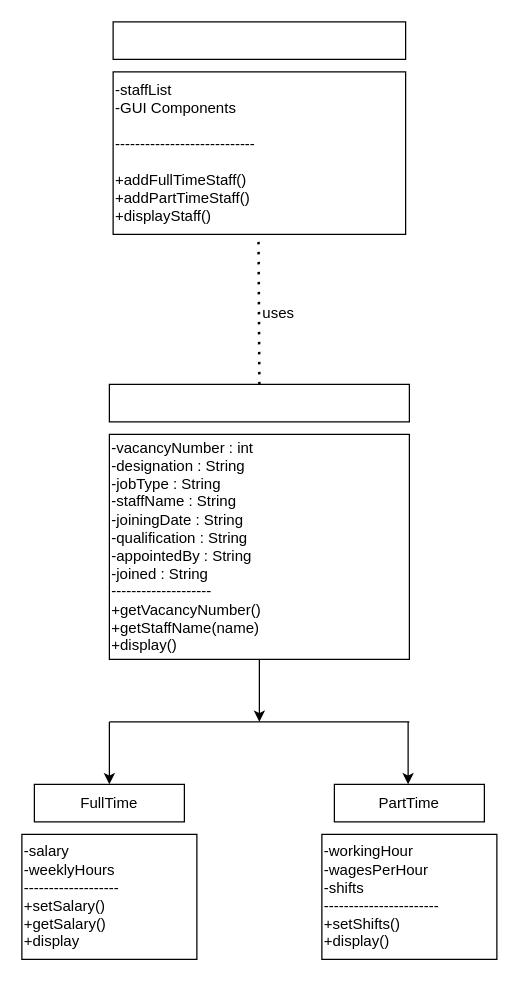
The diagram is 519 pixels wide and 981 high, and some of its shapes have lost their labels. The shapes that lost their labels are listed below. From the top down, each one's centre as x and y in pixels, then its label:
(x=259, y=40): RecruitmentSystemGUI
(x=258, y=402): StaffHire
